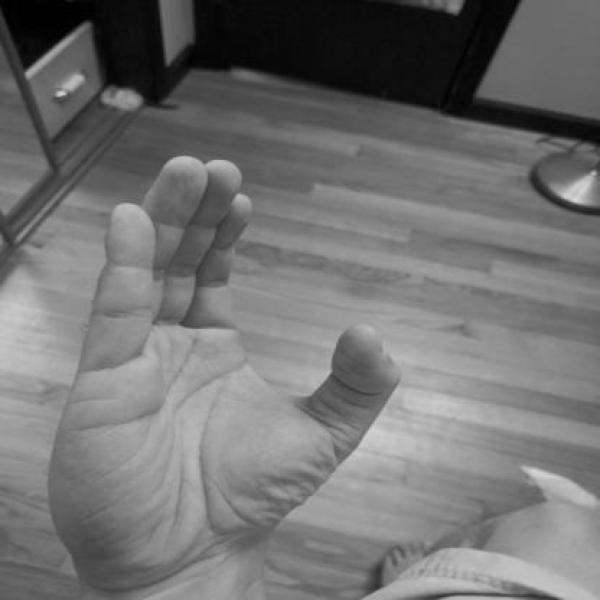C: (40, 147, 406, 589)
